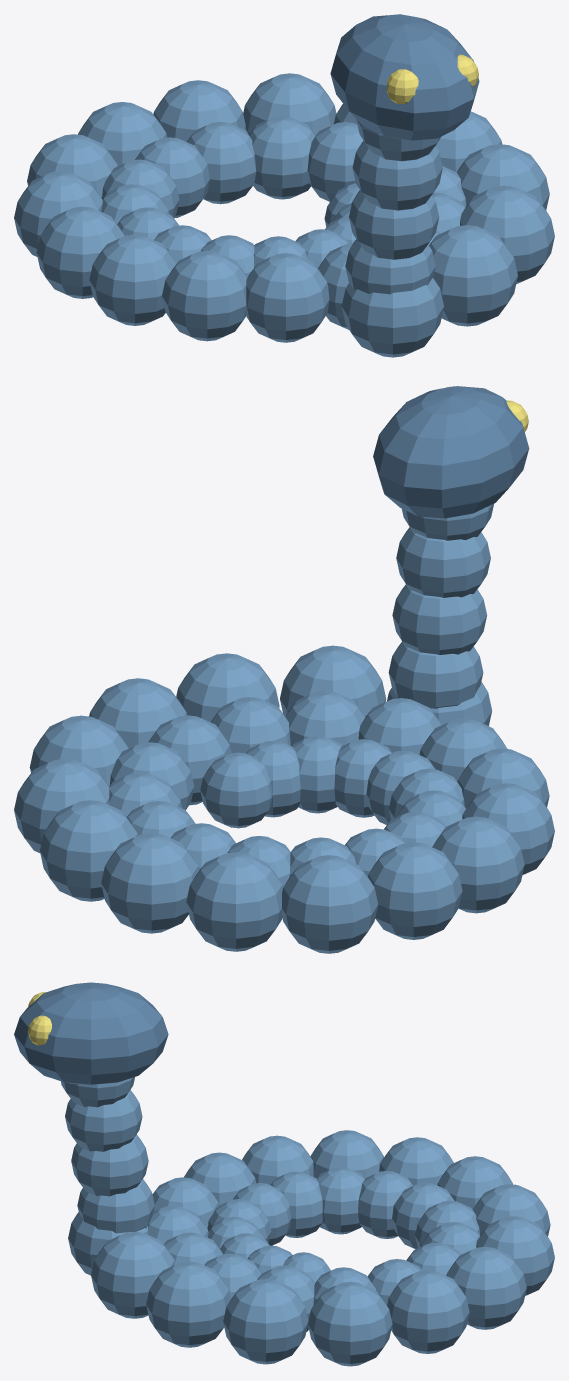
Rendered from creature_snake_blue.glb.
3 views of the same model, one above another, from view 1: azimuth 30°, elevation 25°; view 2: azimuth 150°, elevation 25°; view 3: azimuth 270°, elevation 25° (orthographic). The views are drawn at different scales.
Visible parts, largest first — view 1: creature_snake_blue; view 2: creature_snake_blue; view 3: creature_snake_blue.
Boxes of the visible parts, x1,y1,x2,y2 form: creature_snake_blue: [14, 14, 554, 357]; creature_snake_blue: [14, 386, 554, 953]; creature_snake_blue: [14, 982, 554, 1366].
Size of the model in its own units: 1.42 by 1 by 1.69.
